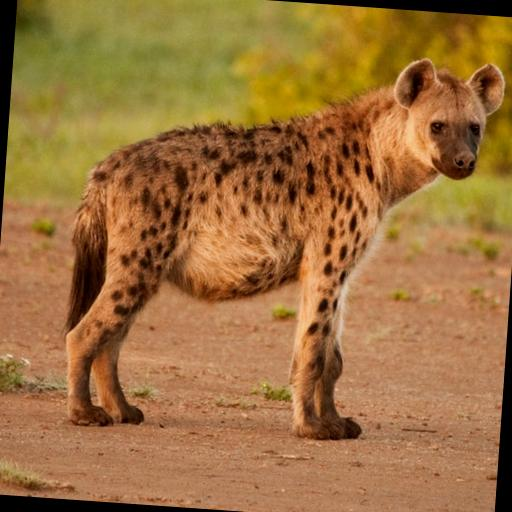hyenas: (19, 5, 512, 459)
